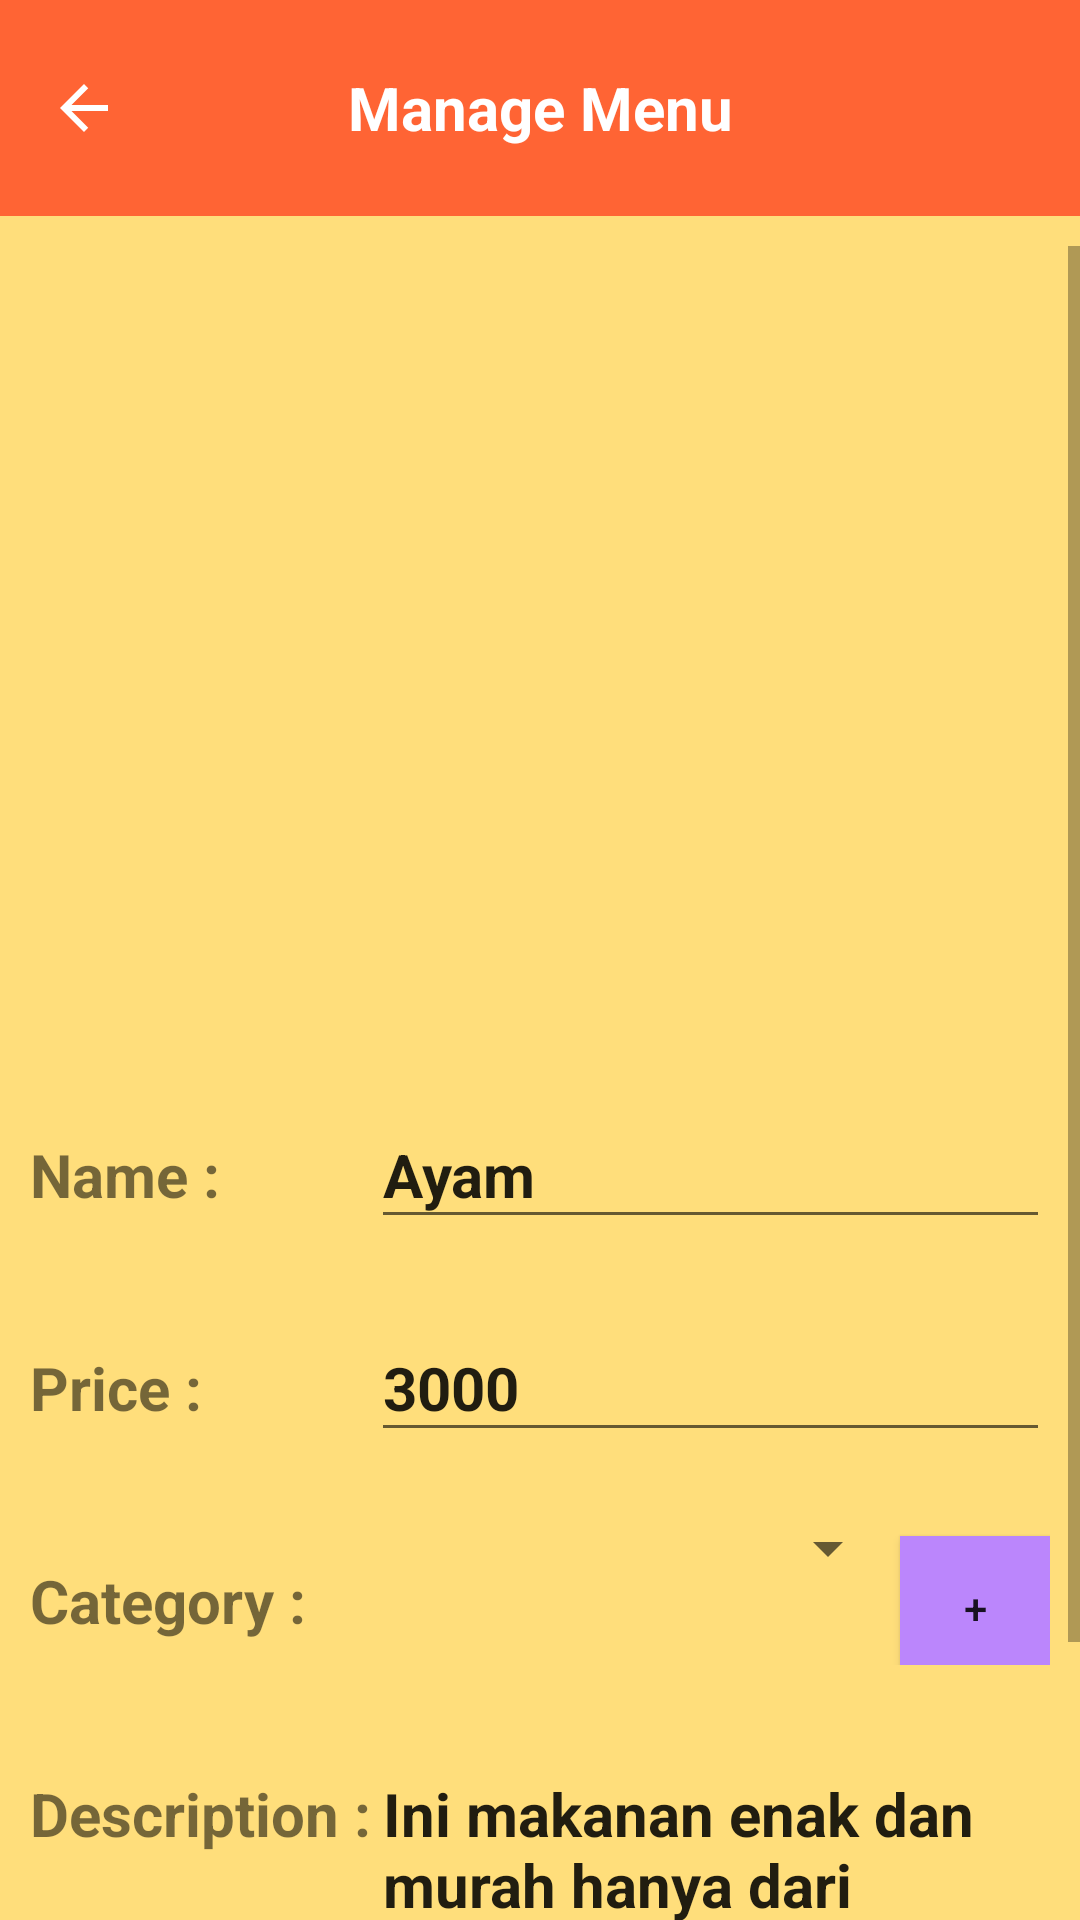

Icon bounding boxes for this 1080px x 1920px phone screenshot, format (x1, y1, x2, y2):
Back: (60, 84, 108, 132)
